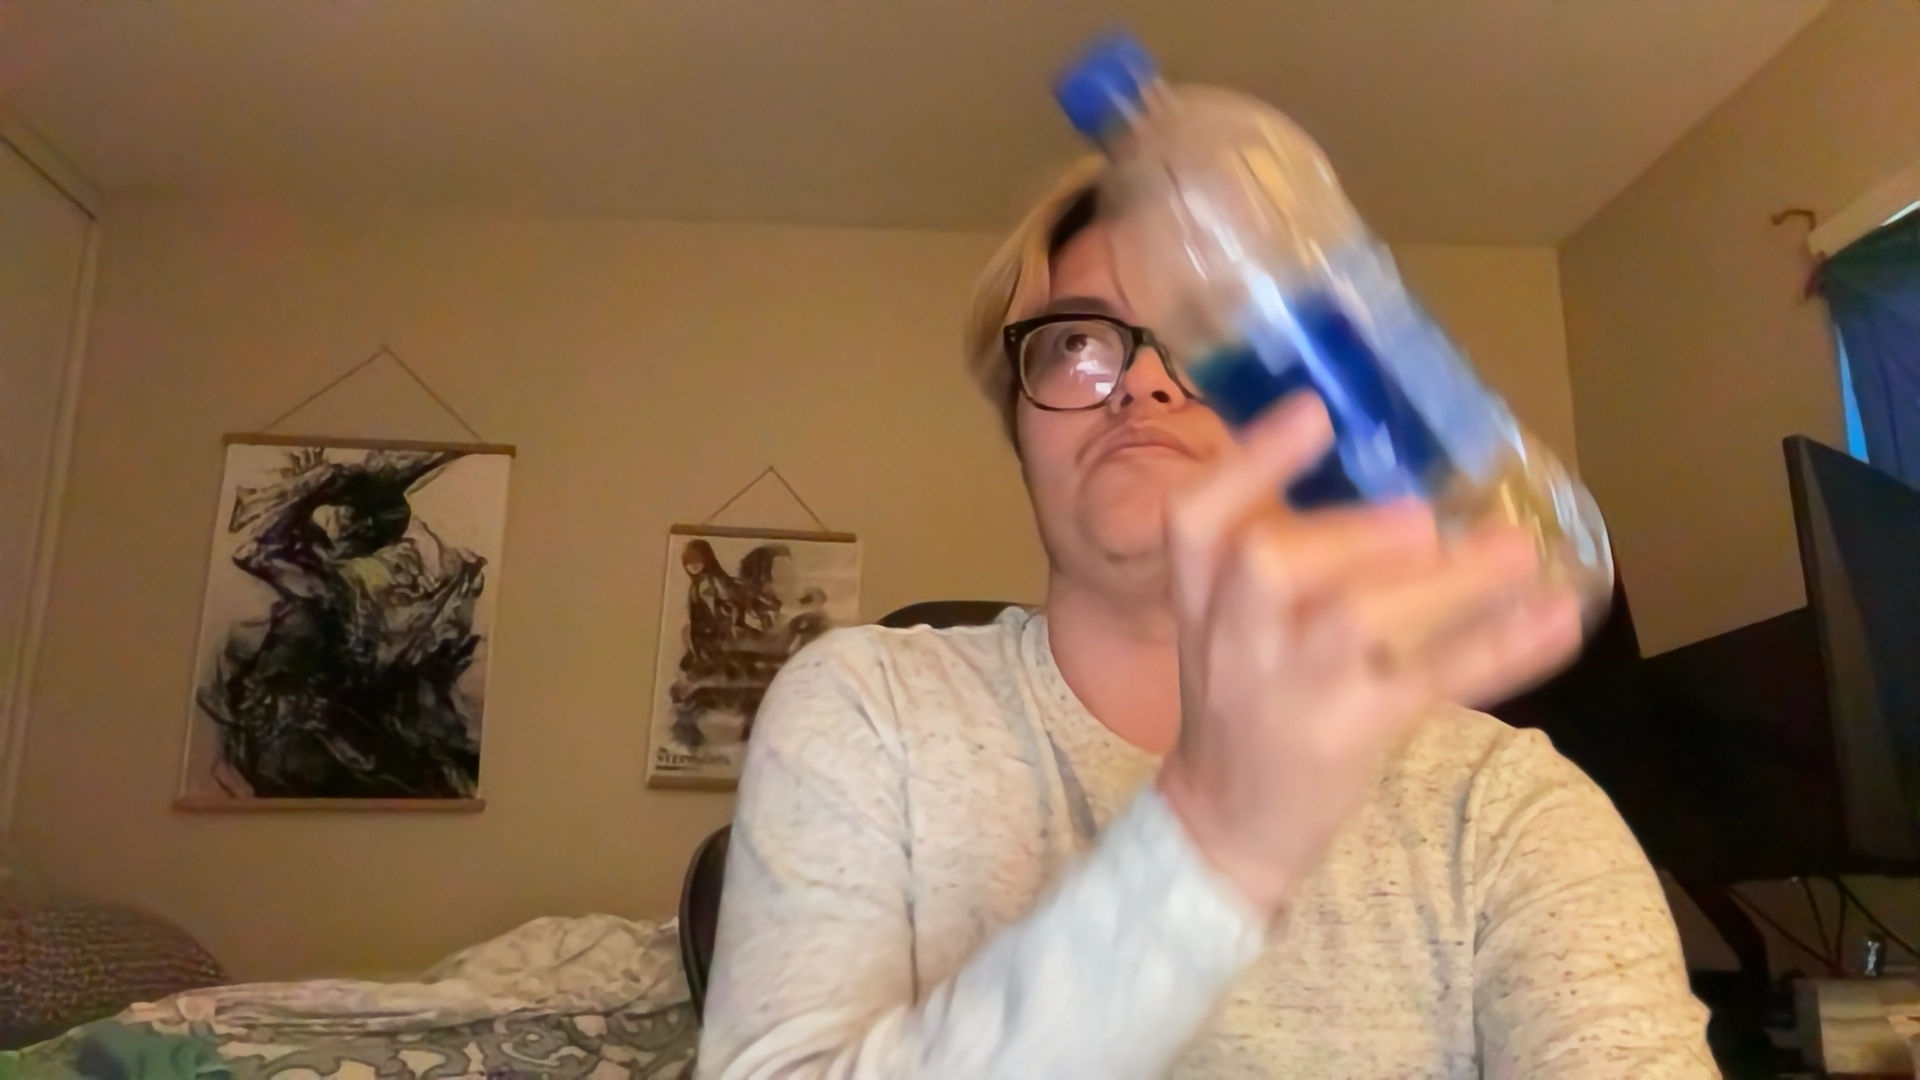bottle: (1047, 20, 1631, 638)
